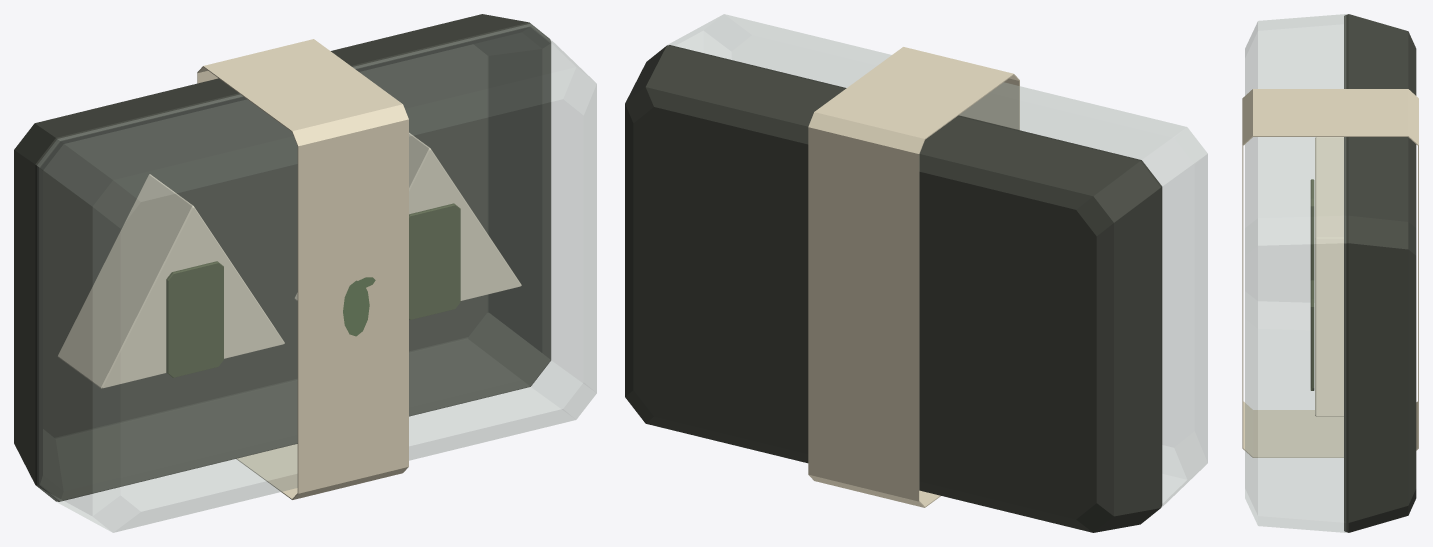
File: onigiri.glb
3 views of the same model, side by side, from view 1: azimuth 30°, elevation 25°; view 2: azimuth 150°, elevation 25°; view 3: azimuth 270°, elevation 25° (orthographic). The views are drawn at different scales.
Parts seen in each view (by area): view 1: onigiri; view 2: onigiri; view 3: onigiri.
Part boxes in pixels (<box>): onigiri: <box>14,14,596,532</box>; onigiri: <box>625,14,1207,532</box>; onigiri: <box>1242,14,1418,532</box>.
Bounding box in the file's own units: 0.2 × 0.137 × 0.0705.
